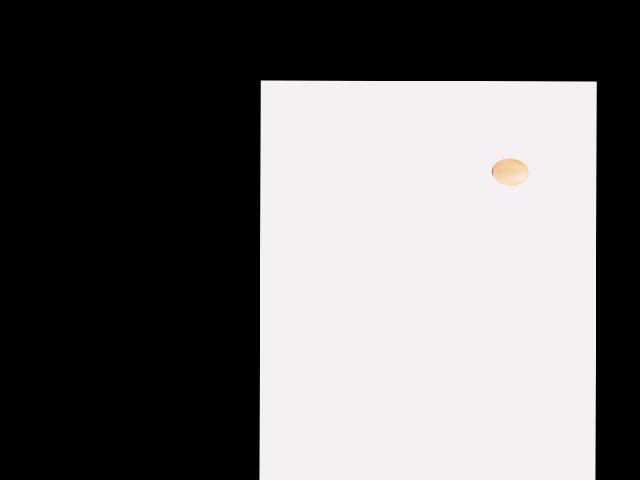egg: (491, 158, 528, 185)
